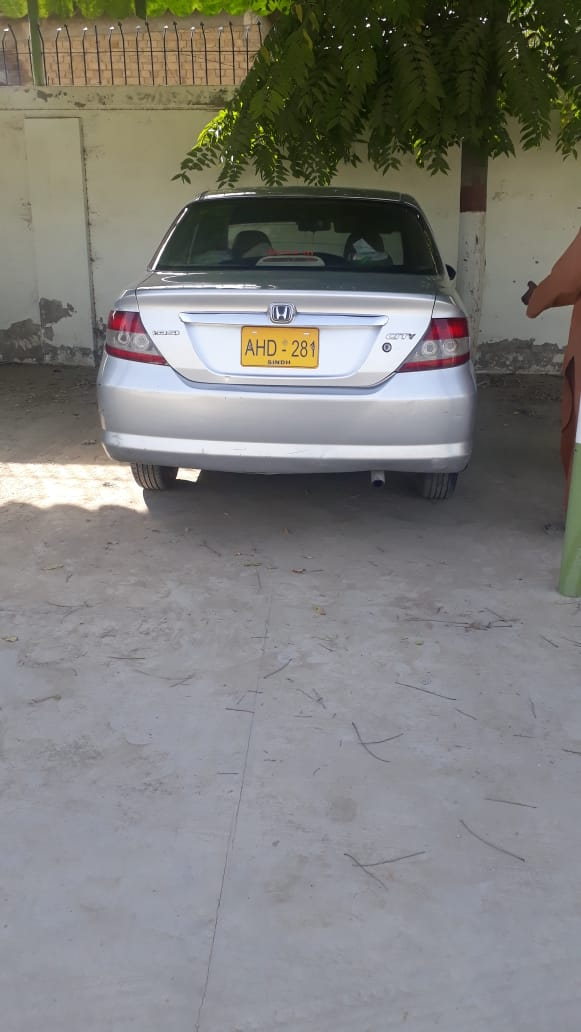license plate: (240, 326, 321, 369)
